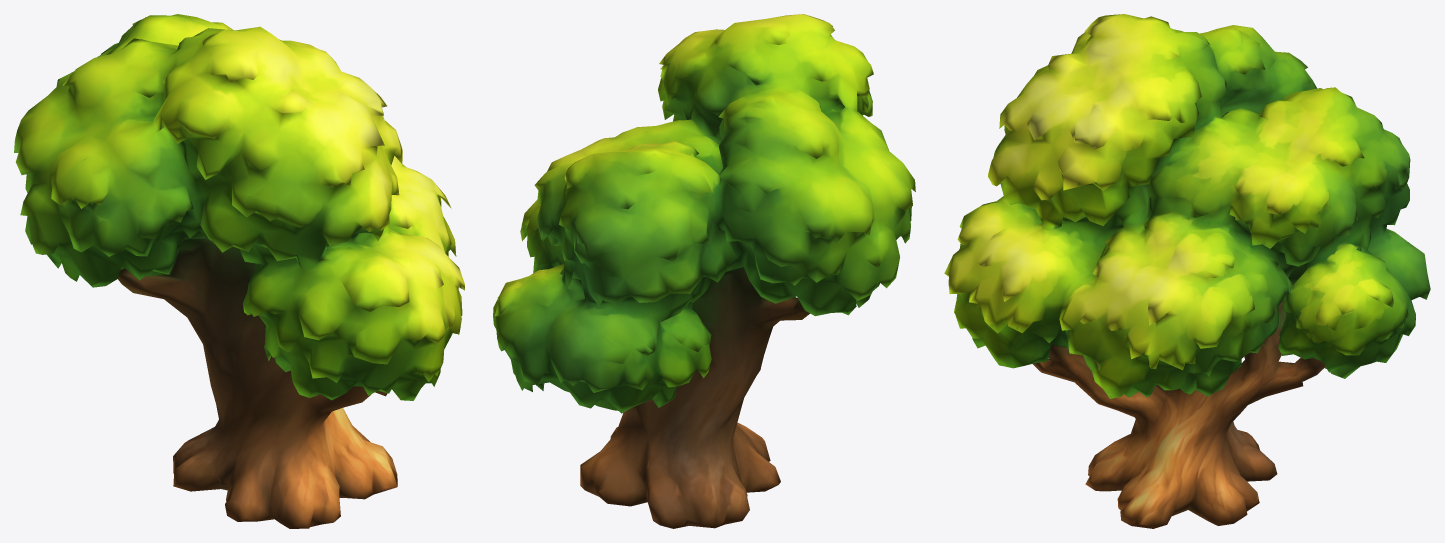
The picture shows the model from 3 angles, left to right: view 1: azimuth 30°, elevation 25°; view 2: azimuth 150°, elevation 25°; view 3: azimuth 270°, elevation 25°; orthographic projection. The views are drawn at different scales.
Visible parts, largest first — view 1: tripo_node_29756ecf-514a-4e0b-ae0c-79b89023b98c; view 2: tripo_node_29756ecf-514a-4e0b-ae0c-79b89023b98c; view 3: tripo_node_29756ecf-514a-4e0b-ae0c-79b89023b98c.
Part boxes in pixels (left/top/right/bottom): tripo_node_29756ecf-514a-4e0b-ae0c-79b89023b98c: left=14, top=14, right=464, bottom=528; tripo_node_29756ecf-514a-4e0b-ae0c-79b89023b98c: left=493, top=14, right=915, bottom=528; tripo_node_29756ecf-514a-4e0b-ae0c-79b89023b98c: left=944, top=14, right=1430, bottom=528.
Bounding box in the file's own units: 1.09 × 1.3 × 1.31.
1 material, 1 textured.
